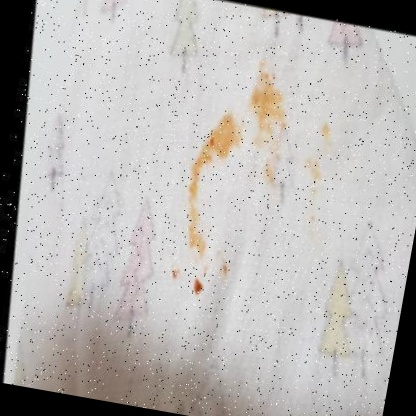kimchi: (157, 155, 224, 255), (239, 68, 300, 156), (191, 106, 241, 162), (295, 156, 332, 224), (186, 278, 213, 308), (258, 159, 280, 189), (164, 266, 184, 288), (217, 260, 234, 278), (320, 123, 331, 139)
